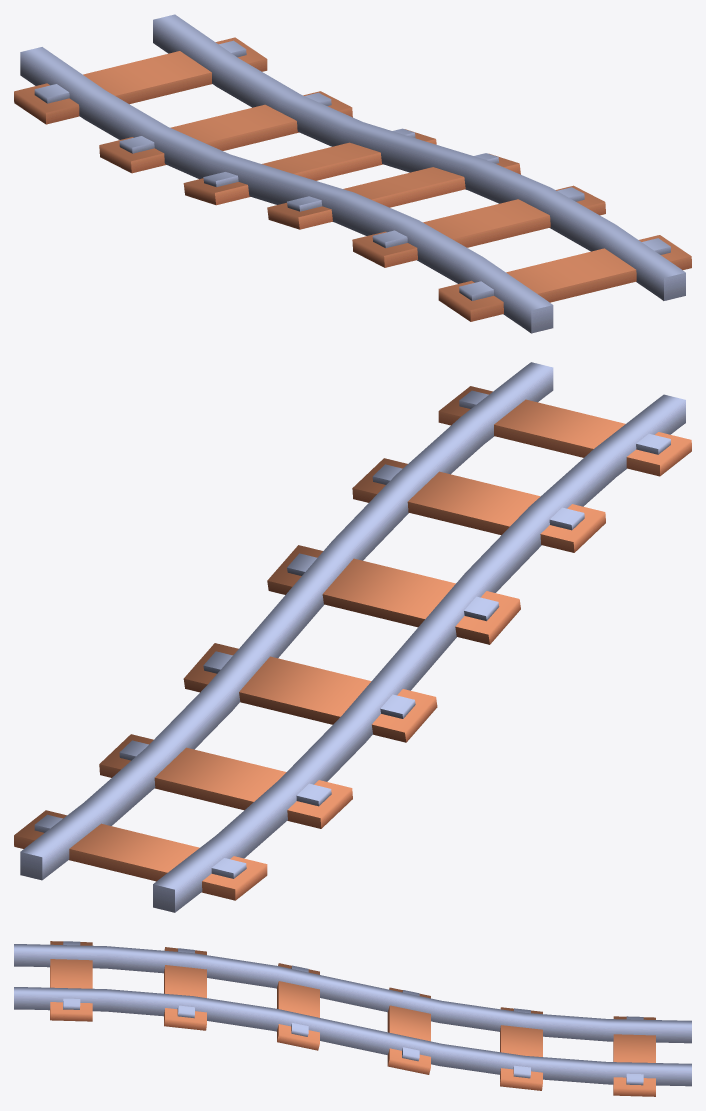
Rendered from kenney-train-railroad-straight-hill-complete-half.glb.
The picture shows the model from 3 angles, top to bottom: view 1: azimuth 30°, elevation 25°; view 2: azimuth 150°, elevation 25°; view 3: azimuth 270°, elevation 25°; orthographic projection. The views are drawn at different scales.
Parts seen in each view (by area): view 1: railroad-straight-hill-complete-half; view 2: railroad-straight-hill-complete-half; view 3: railroad-straight-hill-complete-half.
Part boxes in pixels (x1,y1,x2,y2): railroad-straight-hill-complete-half: (14, 14, 691, 333); railroad-straight-hill-complete-half: (14, 362, 691, 912); railroad-straight-hill-complete-half: (14, 941, 691, 1096).
Bounding box in the file's own units: 1 × 0.6001 × 4.
Materials: 1 (1 with a texture image).
